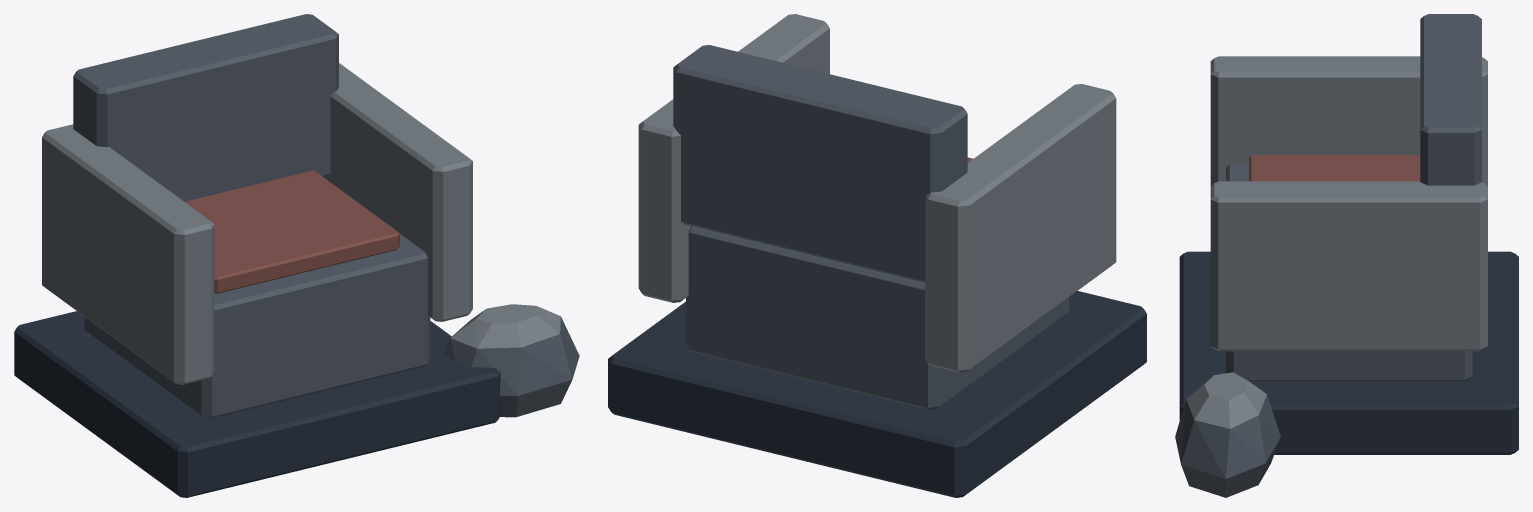
Rendered from throne-broken.glb.
3 renders of one model, left to right at view 1: azimuth 30°, elevation 25°; view 2: azimuth 150°, elevation 25°; view 3: azimuth 270°, elevation 25°, orthographic. The views are drawn at different scales.
Parts seen in each view (by area): view 1: throne-broken__body; view 2: throne-broken__body; view 3: throne-broken__body.
Part boxes in pixels (<box>): throne-broken__body: <box>14,14,579,497</box>; throne-broken__body: <box>608,14,1146,497</box>; throne-broken__body: <box>1175,14,1518,497</box>.
Bounding box in the file's own units: 1.57 × 1.1 × 1.11.
